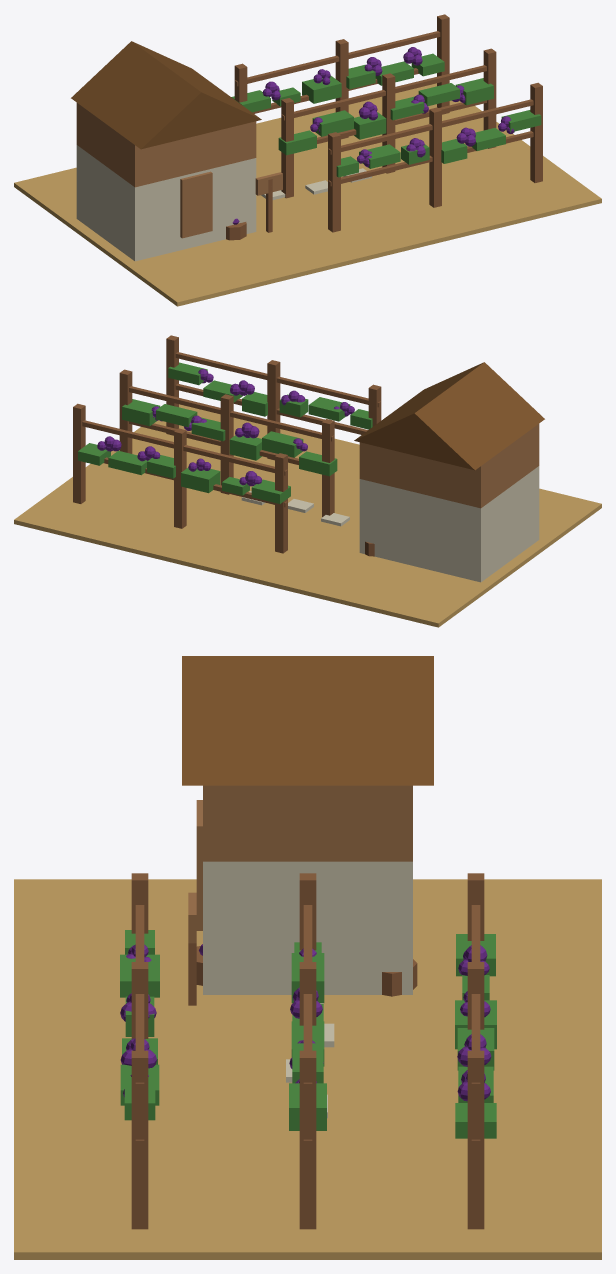
File: vineyard.glb
3 views of the same model, one above another, from view 1: azimuth 30°, elevation 25°; view 2: azimuth 150°, elevation 25°; view 3: azimuth 270°, elevation 25° (orthographic). The views are drawn at different scales.
Visible parts, largest first — view 1: Ground_Base, Shed_LowerWalls, Shed_Roof, Shed_UpperWalls, Shed_Door, Rail_r2_z75, Rail_r0_z75, Rail_r1_z75, Post_r0_p1, Post_r0_p0, Post_r0_p2, Post_r1_p0 (+23 smaller); view 2: Ground_Base, Shed_LowerWalls, Shed_Roof, Shed_UpperWalls, Rail_r0_z75, Rail_r2_z75, Rail_r1_z75, Post_r2_p2, Post_r2_p1, Post_r2_p0, Post_r1_p0, Post_r1_p1 (+22 smaller); view 3: Ground_Base, Shed_Roof, Shed_LowerWalls, Shed_UpperWalls, Post_r0_p2, Post_r1_p2, Post_r2_p2, Rail_r0_z75, Rail_r1_z75, Rail_r2_z75, Leaf_r1_185, Post_r1_p0 (+10 smaller).
Part boxes in pixels (bbox=[...]): Ground_Base: bbox=[14, 83, 601, 306]; Shed_LowerWalls: bbox=[76, 145, 256, 261]; Shed_Roof: bbox=[71, 41, 261, 149]; Shed_UpperWalls: bbox=[76, 103, 256, 187]; Shed_Door: bbox=[180, 171, 212, 238]; Rail_r2_z75: bbox=[235, 31, 440, 86]; Rail_r0_z75: bbox=[328, 99, 533, 154]; Rail_r1_z75: bbox=[281, 65, 486, 120]; Post_r0_p1: bbox=[429, 107, 441, 207]; Post_r0_p0: bbox=[328, 132, 340, 232]; Post_r0_p2: bbox=[530, 82, 542, 182]; Post_r1_p0: bbox=[281, 98, 293, 198]; Ground_Base: bbox=[14, 404, 601, 627]; Shed_LowerWalls: bbox=[359, 466, 539, 582]; Shed_Roof: bbox=[354, 362, 544, 470]; Shed_UpperWalls: bbox=[359, 424, 539, 508]; Rail_r0_z75: bbox=[175, 352, 380, 407]; Rail_r2_z75: bbox=[82, 420, 287, 475]; Rail_r1_z75: bbox=[129, 386, 334, 441]; Post_r2_p2: bbox=[73, 403, 85, 503]; Post_r2_p1: bbox=[174, 428, 186, 528]; Post_r2_p0: bbox=[275, 453, 287, 553]; Post_r1_p0: bbox=[322, 419, 334, 517]; Post_r1_p1: bbox=[220, 394, 233, 494]; Ground_Base: bbox=[14, 879, 601, 1259]; Shed_Roof: bbox=[182, 656, 433, 785]; Shed_LowerWalls: bbox=[203, 861, 412, 994]; Shed_UpperWalls: bbox=[203, 785, 412, 861]; Post_r0_p2: bbox=[131, 1050, 148, 1229]; Post_r1_p2: bbox=[299, 1050, 316, 1229]; Post_r2_p2: bbox=[467, 1050, 484, 1229]; Rail_r0_z75: bbox=[135, 905, 144, 1090]; Rail_r1_z75: bbox=[303, 905, 312, 1090]; Rail_r2_z75: bbox=[471, 905, 480, 1090]; Leaf_r1_185: bbox=[289, 1083, 326, 1130]; Post_r1_p0: bbox=[299, 873, 316, 950].
Size of the model in its own units: 4.2 by 1.54 by 2.8.
